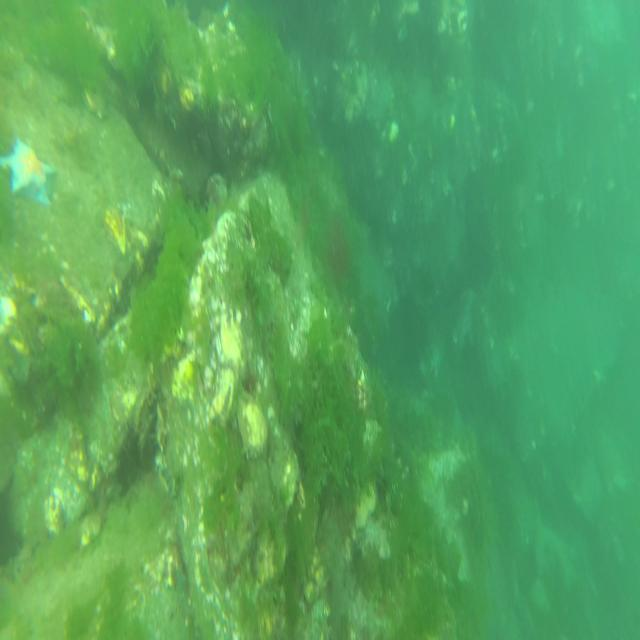echinus: (117, 425, 141, 493)
starfish: (0, 135, 55, 207)
